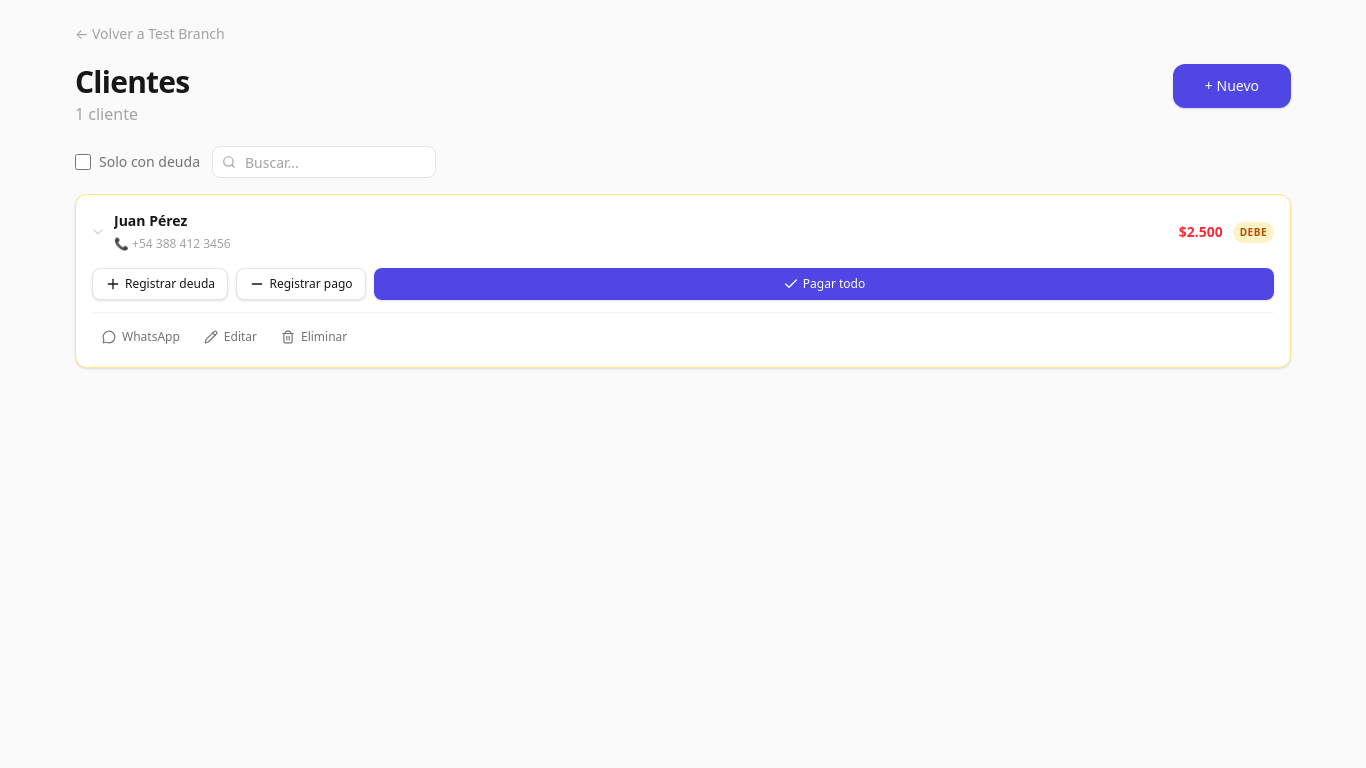
Scenario: ClientList › should open debt entry modal and cancel
Check: the text "Juan Pérez" is shown, box [114,211,187,230]
What coordinates should you click on to do the following:
click the button with test id "add-debt-button"
I would click on:
 (160, 284)
Its box is [92,268,228,300].
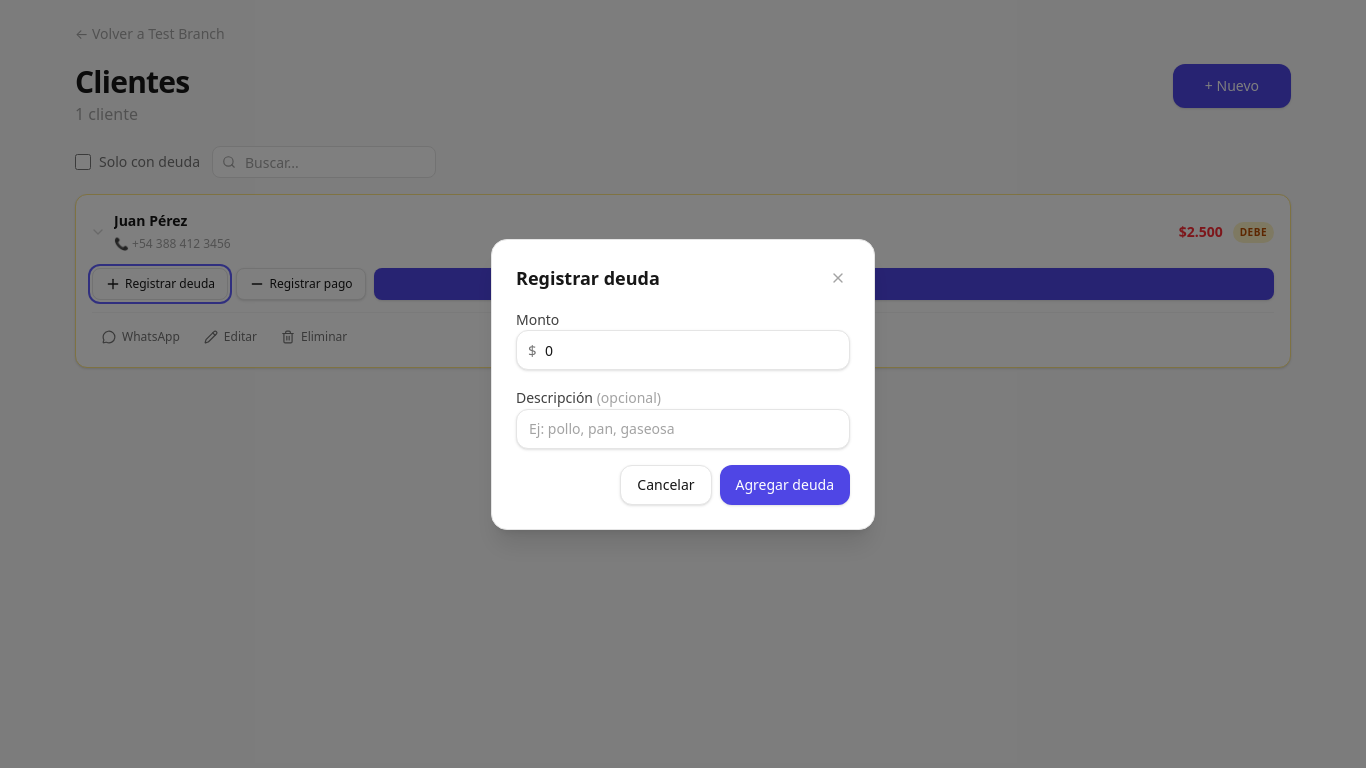
Check: the button "Agregar deuda" is shown, box [720,464,850,504]
What coordinates should you click on to do the following:
click the button "Cancelar"
I would click on:
 (666, 484)
Its box is [620,464,712,504].
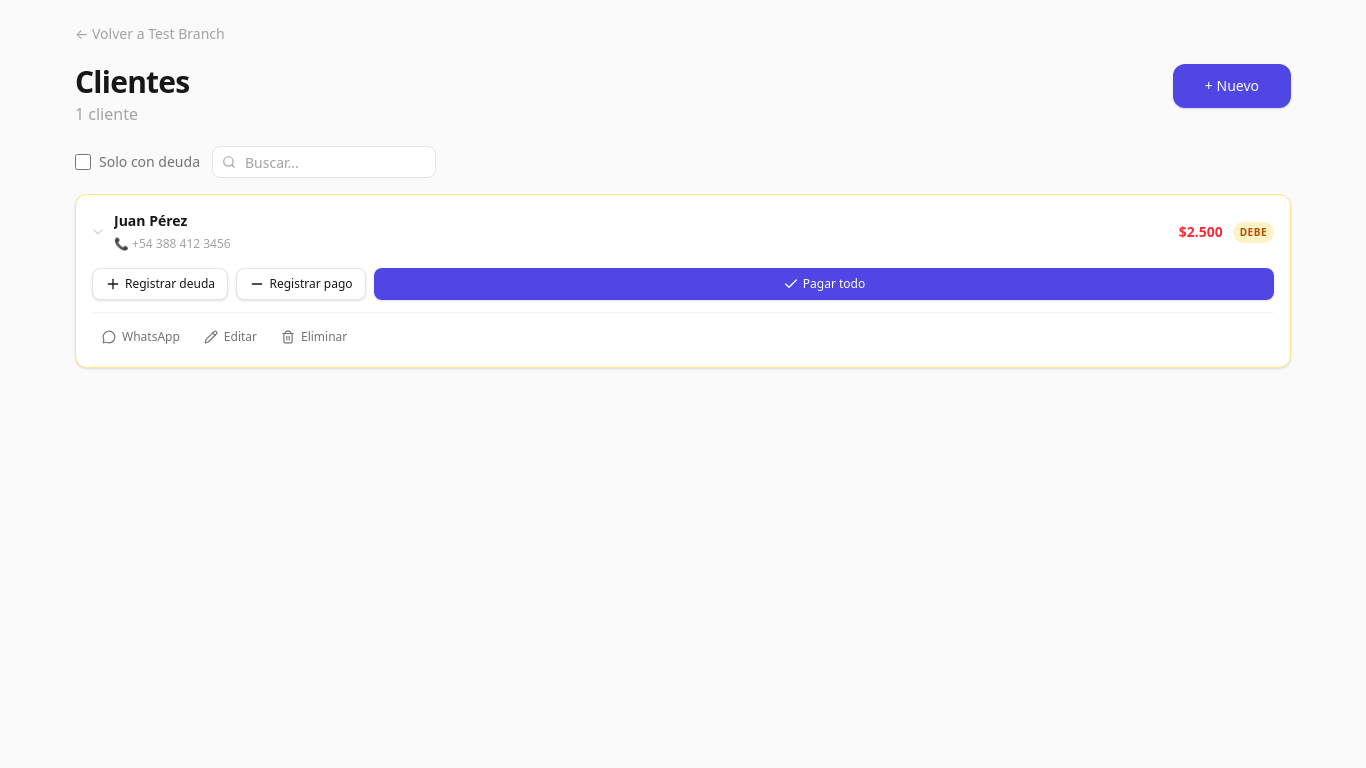
Check: the button "Agregar deuda" is gone
